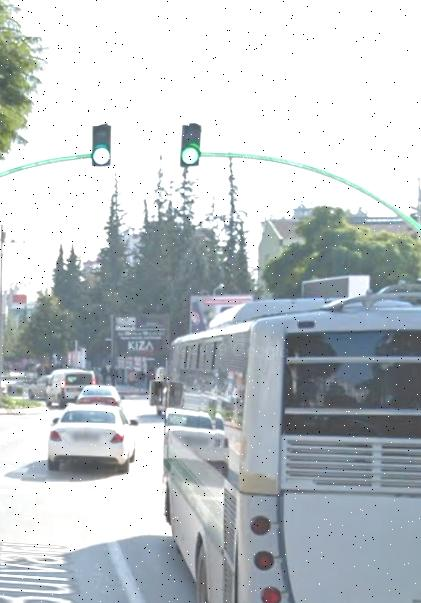greenlight: (93, 121, 115, 173), (181, 121, 203, 167)
